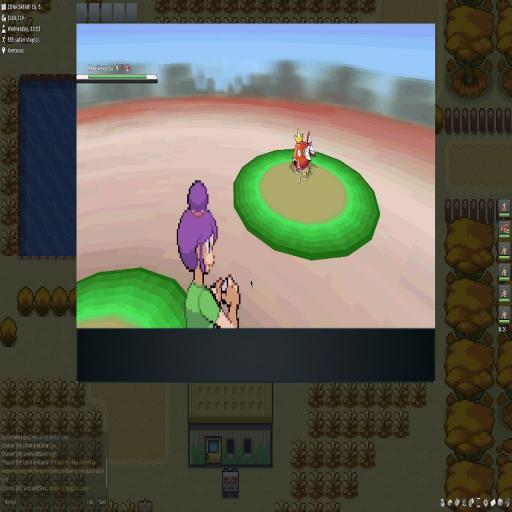MAGIKARP: (290, 127, 316, 183)
